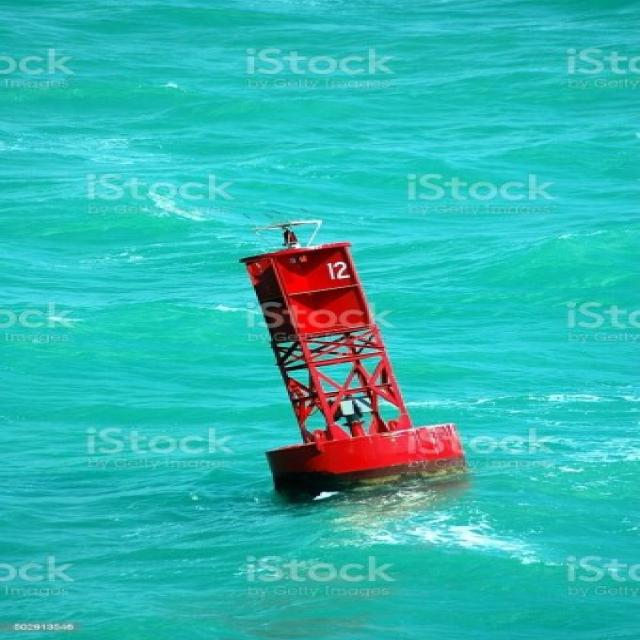buoy: (227, 194, 471, 510)
